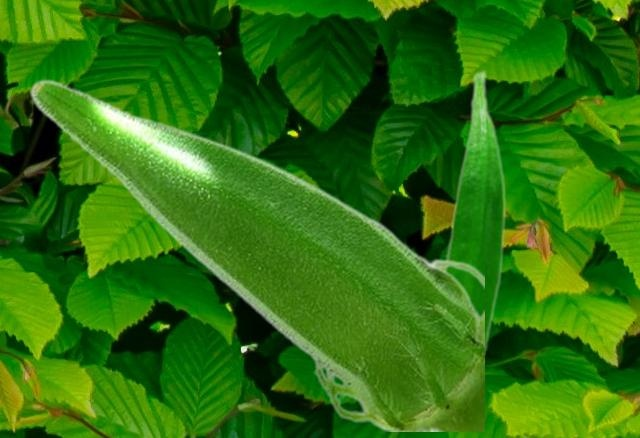okra: (28, 78, 483, 430), (443, 69, 506, 404)
